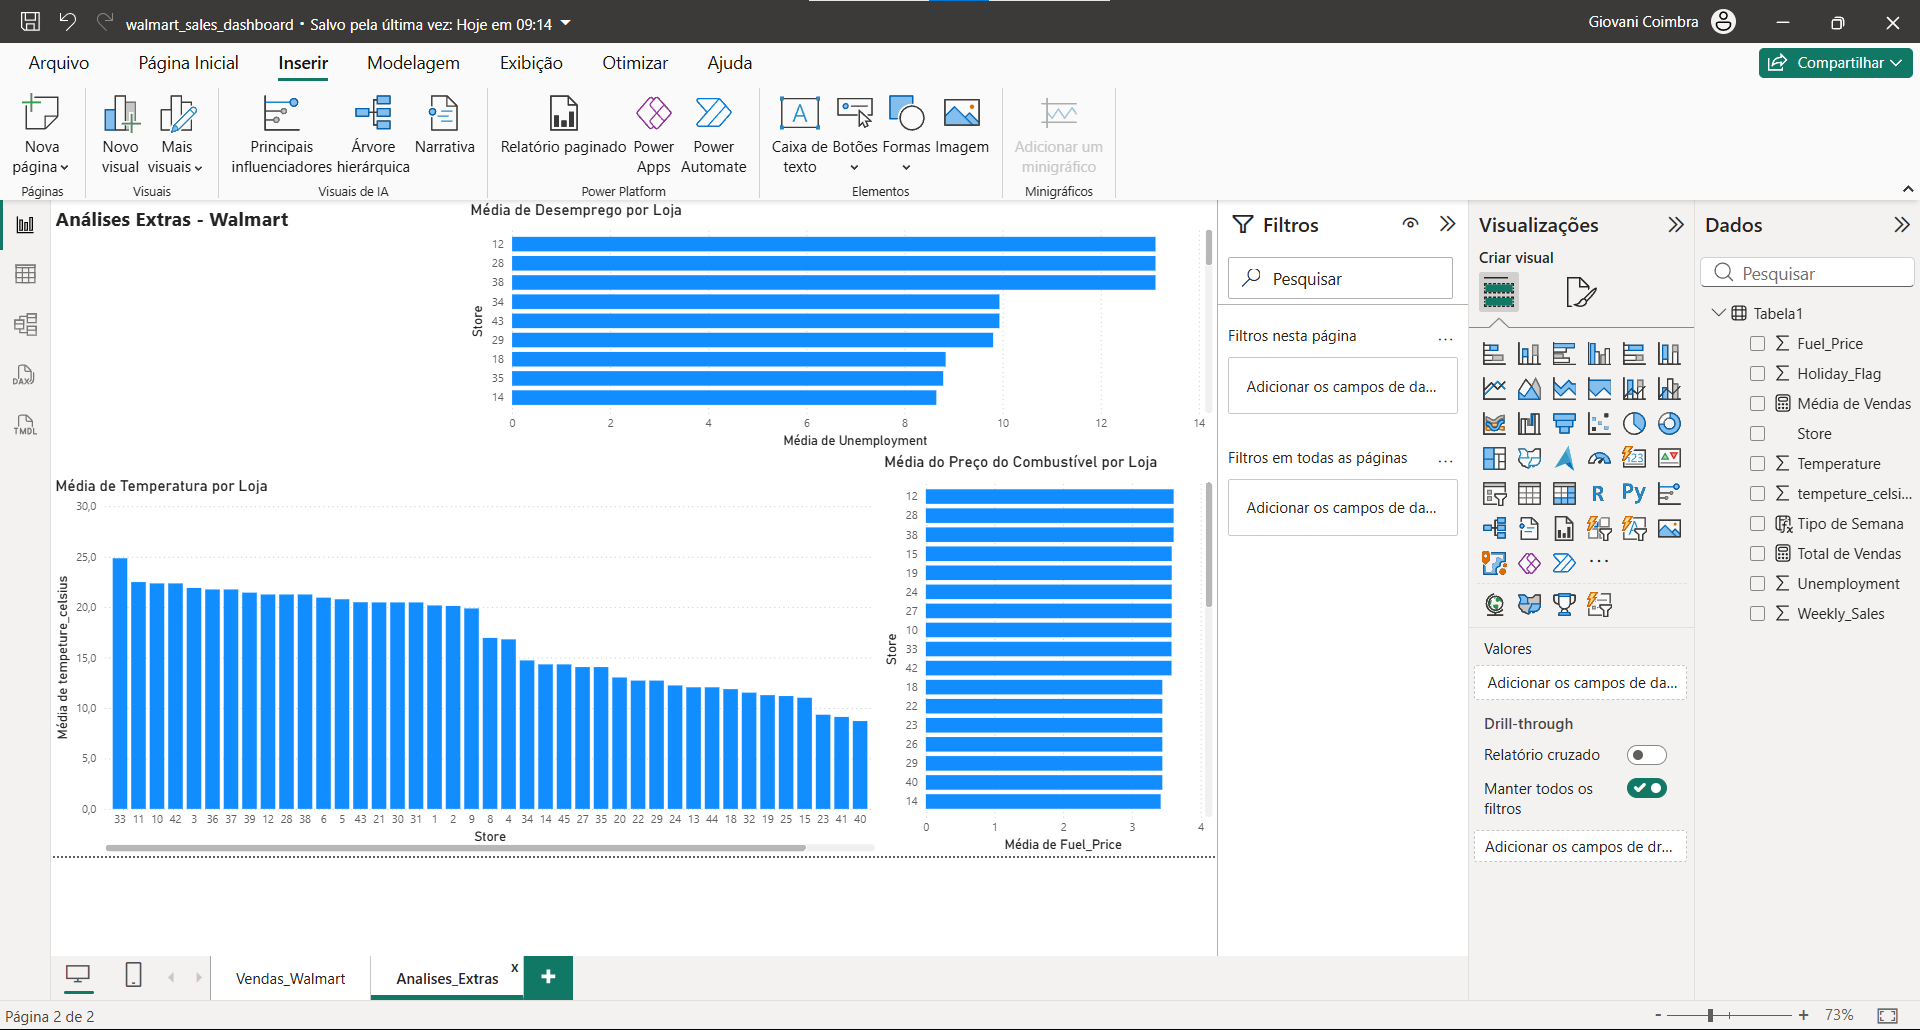

Layout of this report page (visuals, bound fields, positions):
{"tool":"powerbi","page":{"name":"Analises_Extras","canvas":[1280,720],"ordinal":1},"visuals":[{"type":"columnChart","title":"Média de Temperatura por Loja","fields":{"Category":["Tabela1.Store"],"Y":["Avg(Tabela1.tempeture_celsius)"]},"box":[0,303.3,909.8,417.2],"z":0},{"type":"barChart","title":"Média do Preço do Combustível por Loja","fields":{"Category":["Tabela1.Store"],"Y":["Avg(Tabela1.Fuel_Price)"]},"box":[909.8,277.2,370.5,443.2],"z":1},{"type":"barChart","title":"Média de Desemprego por Loja","fields":{"Category":["Tabela1.Store"],"Y":["Avg(Tabela1.Unemployment)"]},"box":[455.6,0,824.7,277.2],"z":2},{"type":"textbox","box":[0,0,304.6,48],"z":3}]}

Visuals, with their boxes on the page's 1280x720 design canvas (x1, y1, x2, y2). These are canvas units, not pixel positions in the 1920x1030 screenshot, which may show the page scaled, cropped or inside an application window:
"Média de Temperatura por Loja" columnChart: locate(0, 303, 910, 720)
"Média do Preço do Combustível por Loja" barChart: locate(910, 277, 1280, 720)
"Média de Desemprego por Loja" barChart: locate(456, 0, 1280, 277)
textbox: locate(0, 0, 305, 48)
